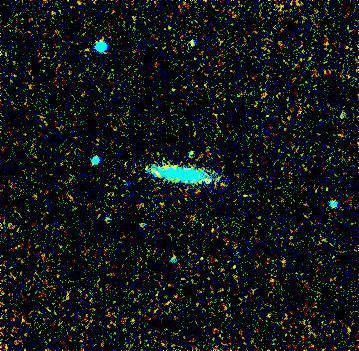star: (193, 169, 223, 199)
